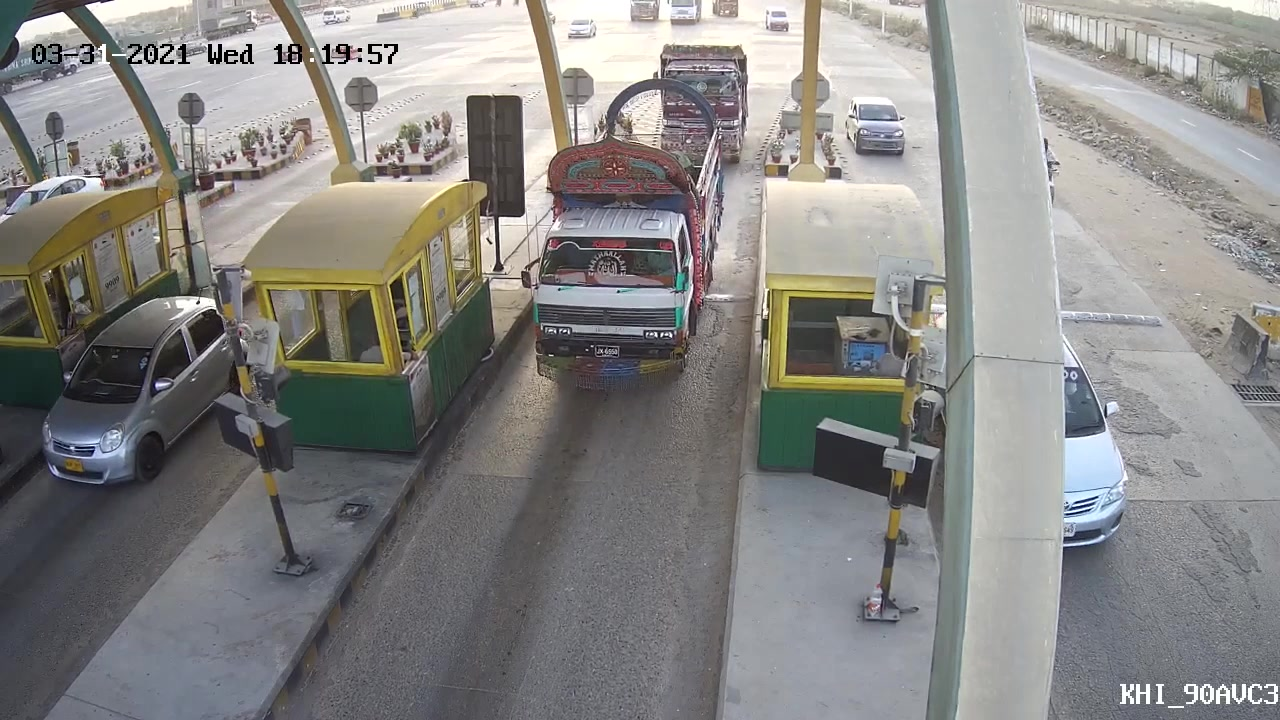F5: (515, 79, 730, 393)
